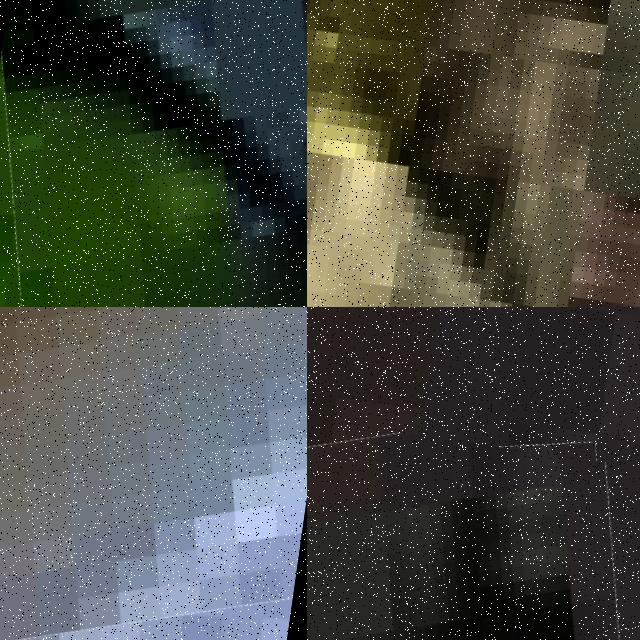0: (0, 0, 307, 307), (307, 407, 640, 640)
drone: (0, 307, 307, 640)
